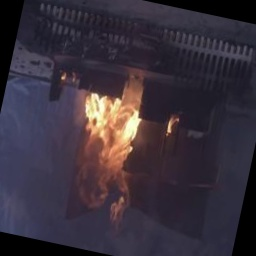fire: (58, 80, 153, 214)
